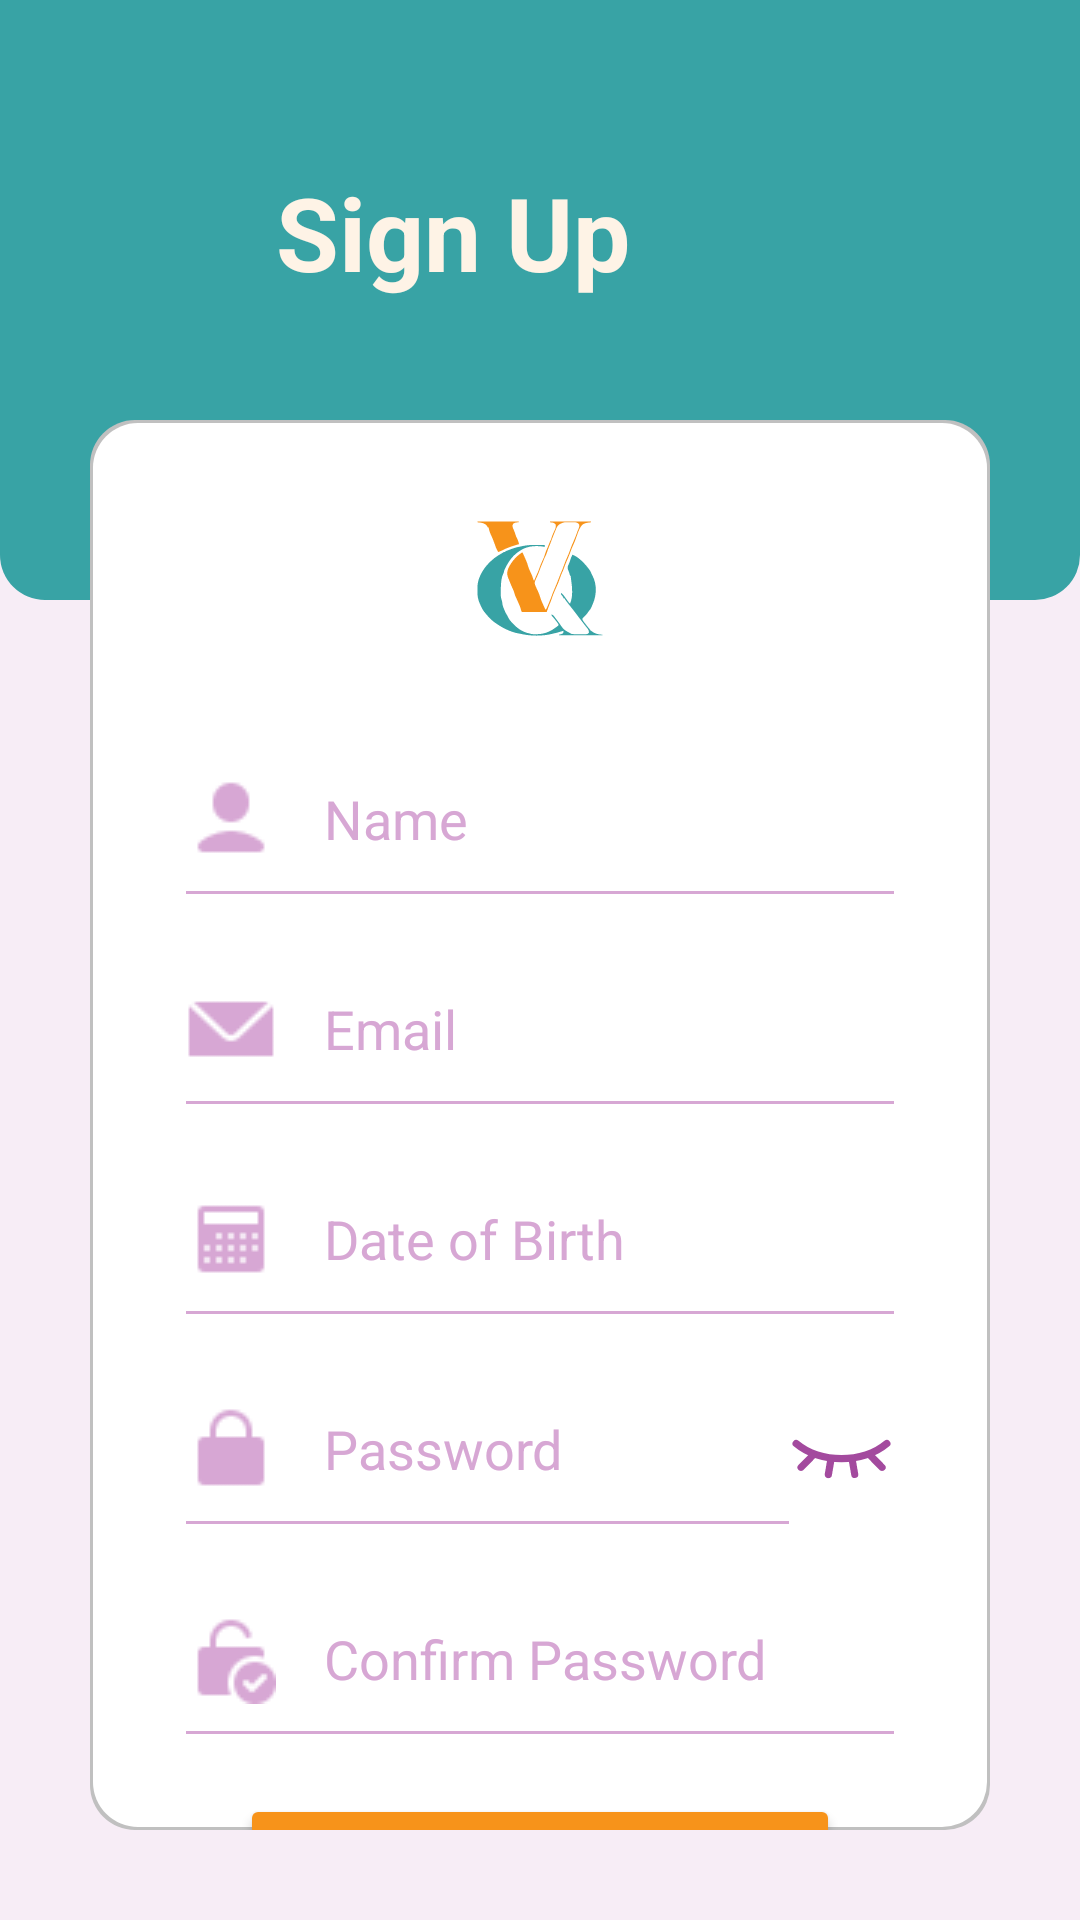

Icons on this 1080x1920 Android screen, each with the point to tap as (x=x, y=y):
eye closed: (x=841, y=1458)
